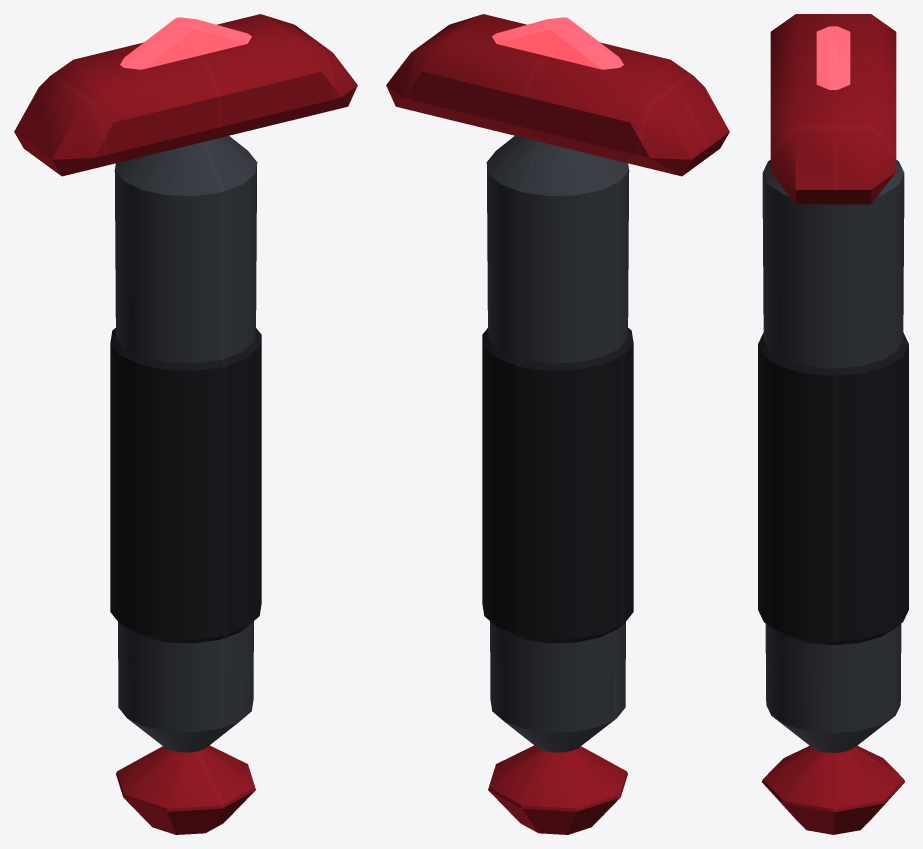
The model's file is gear_energy_blade.glb.
3 renders of one model, left to right at view 1: azimuth 30°, elevation 25°; view 2: azimuth 150°, elevation 25°; view 3: azimuth 270°, elevation 25°, orthographic.
Visible parts, largest first — view 1: Blade_Hilt, Blade_Wrap, Blade_Guard, Blade_Pommel, Blade_Energy; view 2: Blade_Hilt, Blade_Wrap, Blade_Guard, Blade_Pommel, Blade_Energy; view 3: Blade_Wrap, Blade_Hilt, Blade_Guard, Blade_Pommel, Blade_Energy.
Boxes of the visible parts, x1,y1,x2,y2 form: Blade_Hilt: (114,136,257,752); Blade_Wrap: (110,328,261,643); Blade_Guard: (14,14,357,176); Blade_Pommel: (116,745,255,834); Blade_Energy: (120,17,251,69); Blade_Hilt: (486,136,629,752); Blade_Wrap: (482,328,633,643); Blade_Guard: (386,14,729,176); Blade_Pommel: (488,745,627,834); Blade_Energy: (492,17,623,69); Blade_Wrap: (758,332,908,645); Blade_Hilt: (762,160,904,752); Blade_Guard: (770,14,896,204); Blade_Pommel: (762,745,904,834); Blade_Energy: (816,26,850,89).
Bounding box in the file's own units: 0.0833 × 0.207 × 0.036.
Materials: 4 (4 with a texture image).
